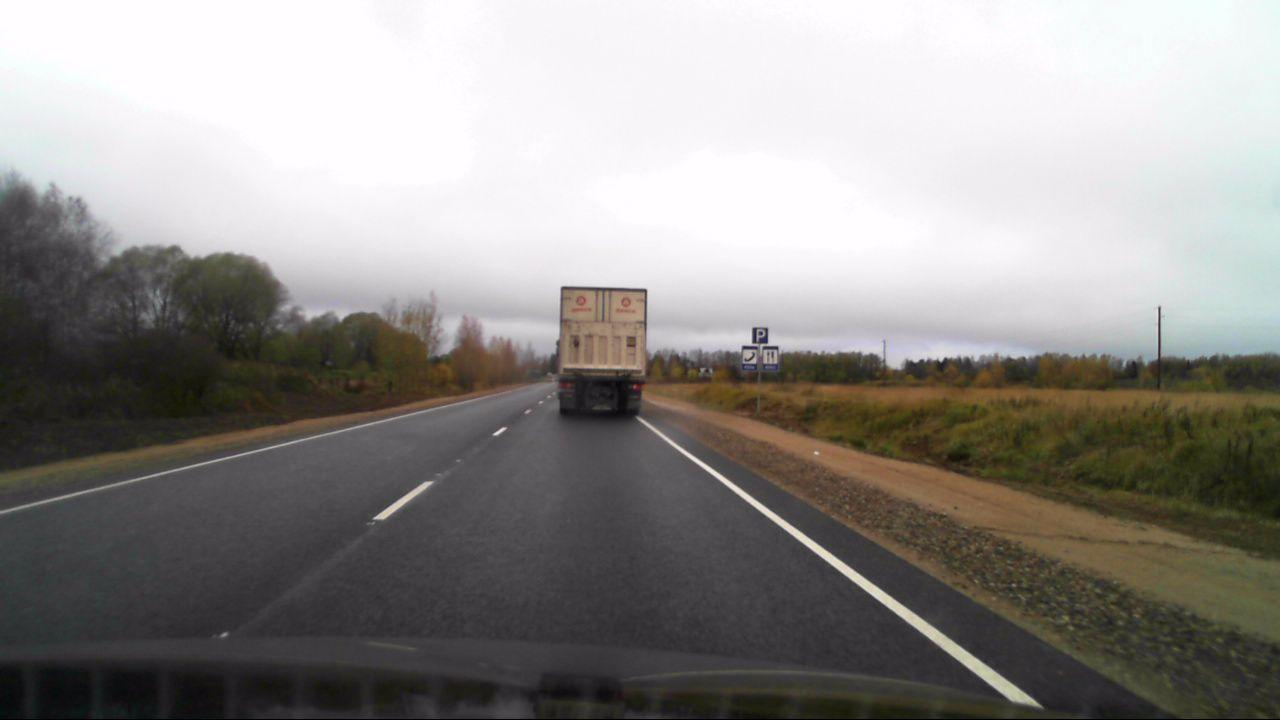6_4: (752, 326, 769, 343)
7_6: (741, 346, 758, 371)
7_7: (762, 345, 779, 372)
